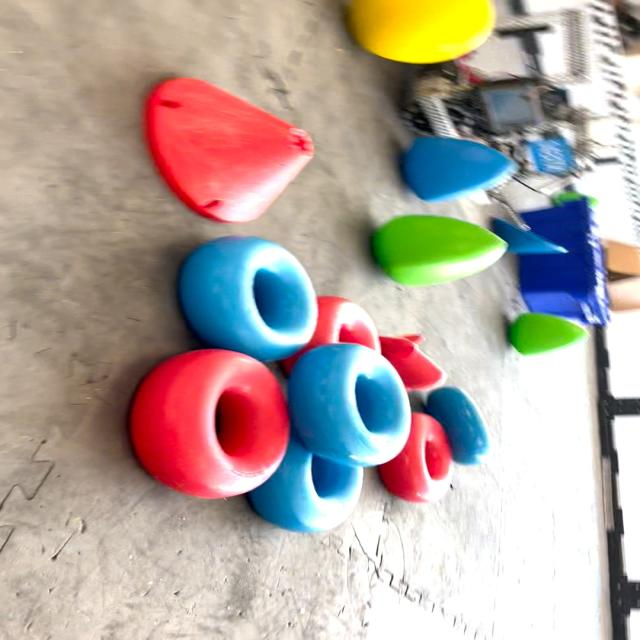Blue-Ring: (178, 236, 318, 361), (289, 344, 411, 468), (249, 434, 362, 532)
Red-Ring: (131, 349, 289, 499), (282, 296, 380, 372), (378, 412, 453, 502)
